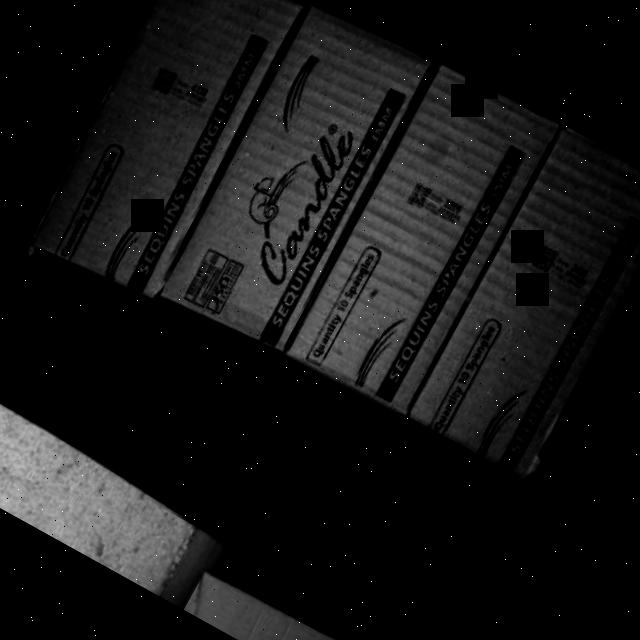box: (289, 62, 566, 416), (155, 13, 431, 359), (22, 0, 312, 308), (410, 129, 640, 480)
